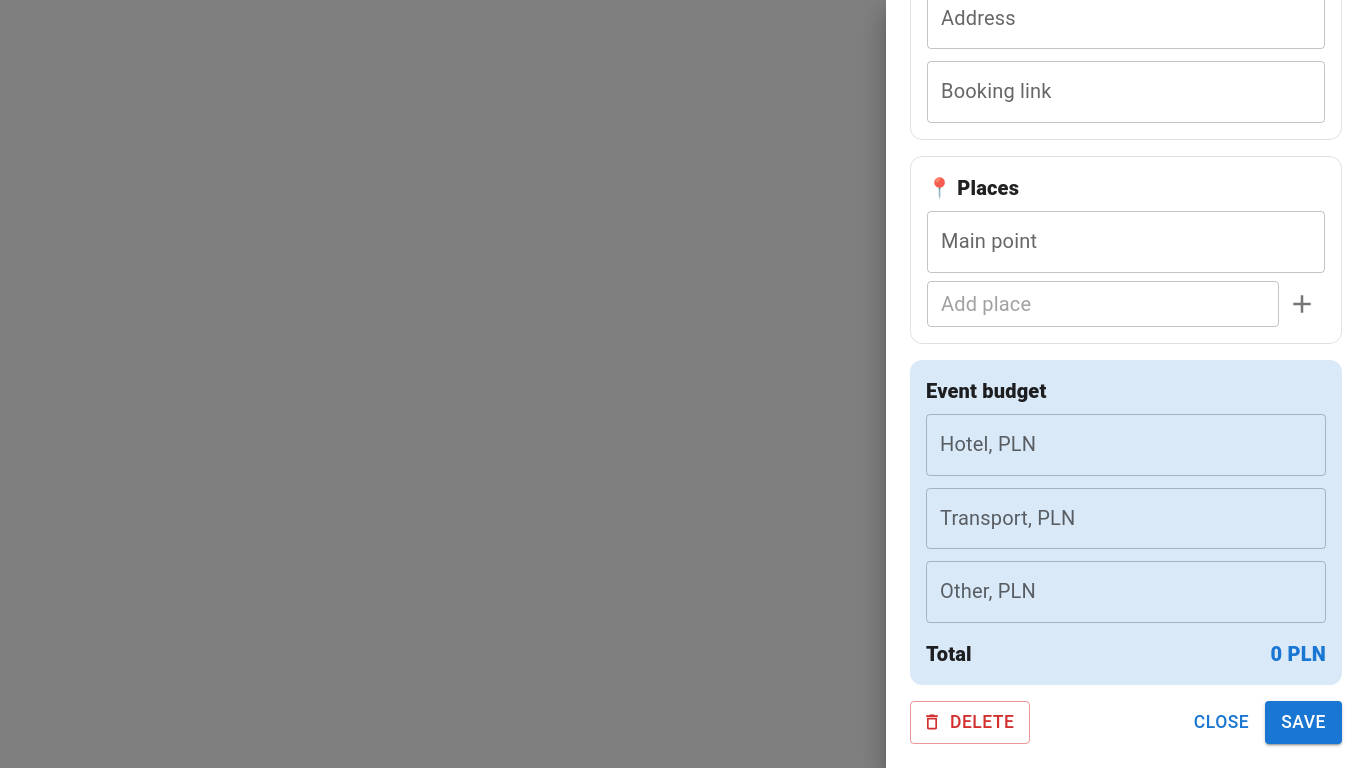
it: EventDrawer budget fields › Budget_WhenAmountsAreTyped_UpdatesLiveTotal
(page scrolled)
Type "100" into the number field labelled "Hotel, PLN" at (1126, 445), box x1=926 y1=414 x2=1326 y2=476
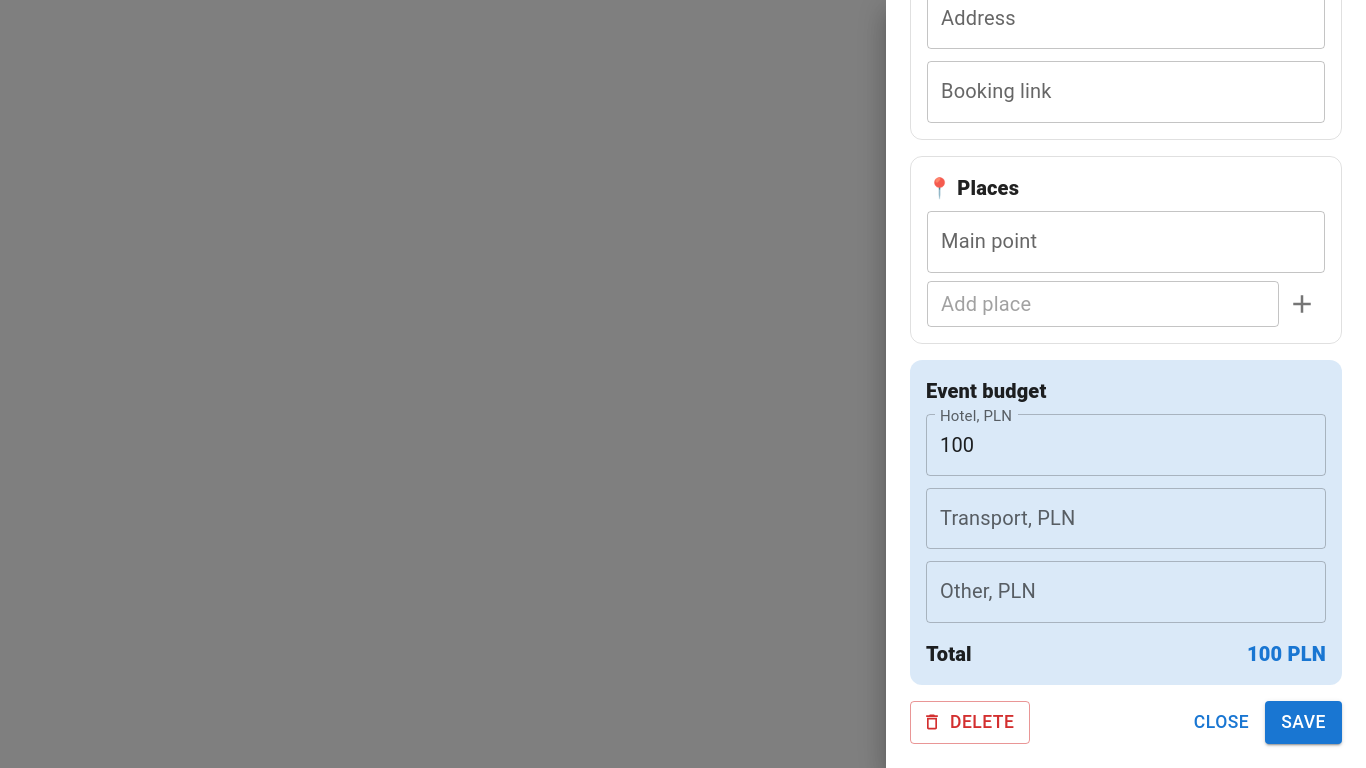
Type "50" into the number field labelled "Transport, PLN" at (1126, 518), box x1=926 y1=488 x2=1326 y2=549
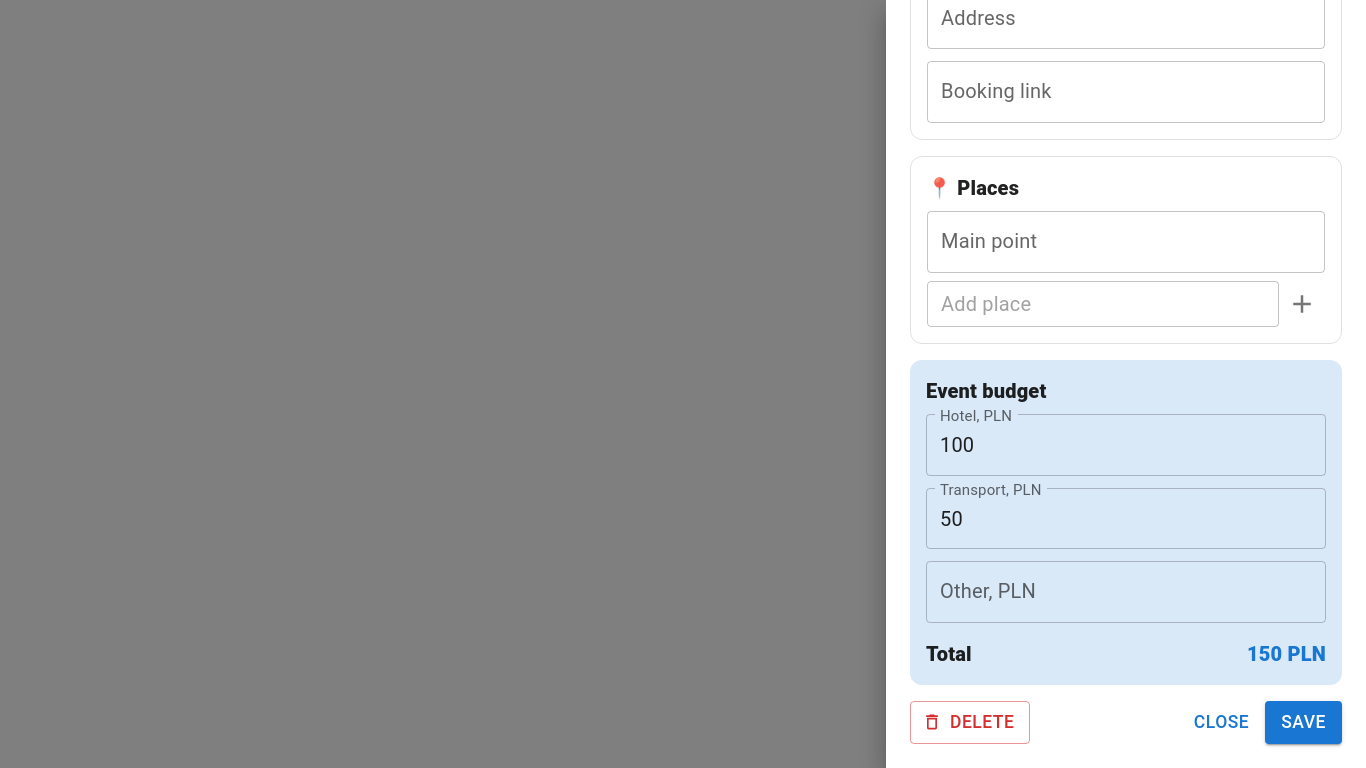
Type "25" into the number field labelled "Other, PLN" at (1126, 592), box x1=926 y1=561 x2=1326 y2=623
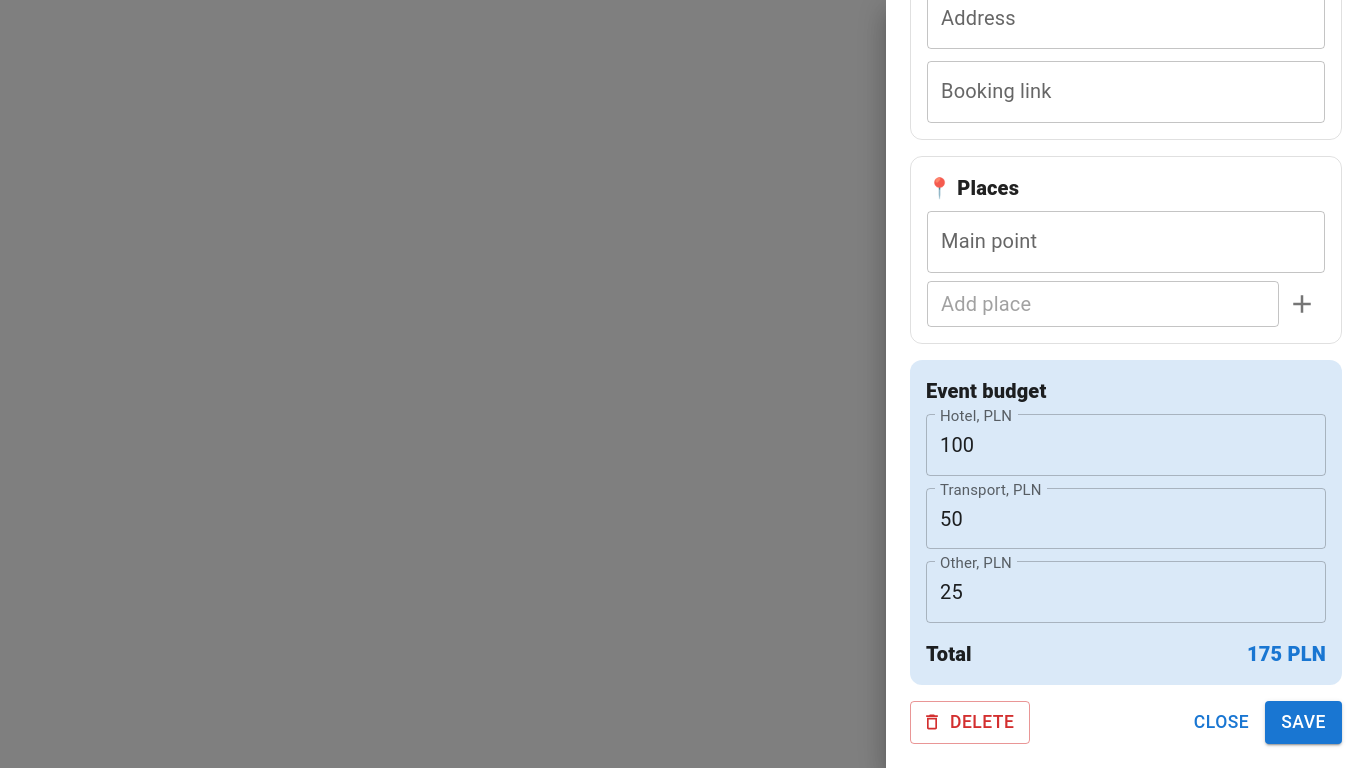
Now the text "175 PLN" is shown, box x1=1247 y1=639 x2=1326 y2=669
